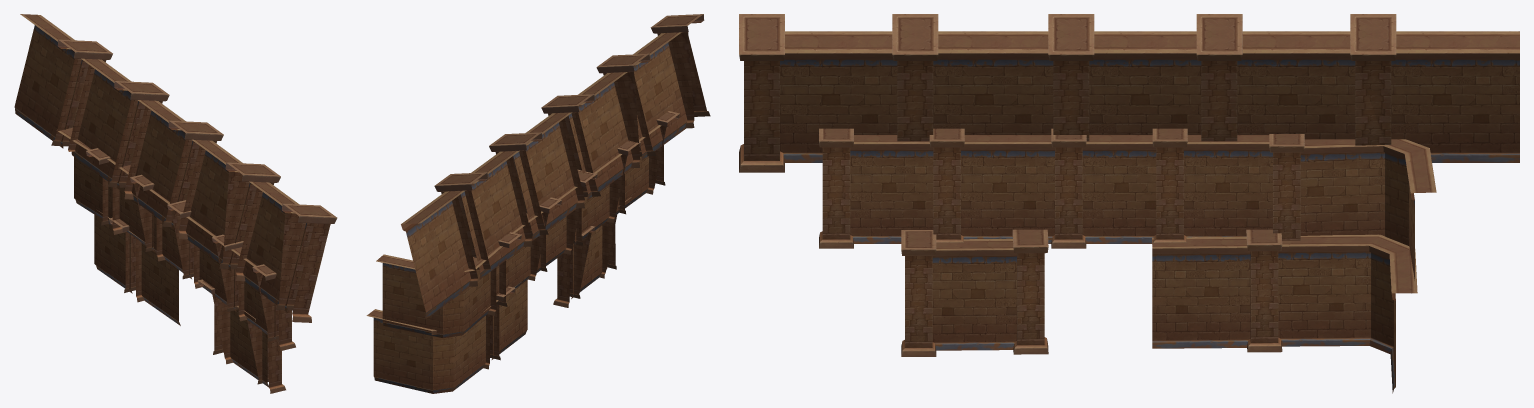
Rendered from Area_04_1.FBX.
3 views of the same model, side by side, from view 1: azimuth 30°, elevation 25°; view 2: azimuth 150°, elevation 25°; view 3: azimuth 270°, elevation 25° (orthographic). The views are drawn at different scales.
Visible parts, largest first — view 1: Area_04_1; view 2: Area_04_1; view 3: Area_04_1.
Boxes of the visible parts, x1,y1,x2,y2 form: Area_04_1: [14, 14, 337, 393]; Area_04_1: [366, 14, 710, 393]; Area_04_1: [739, 14, 1519, 393].
Bounding box in the file's own units: 1099 × 2222 × 5029.
